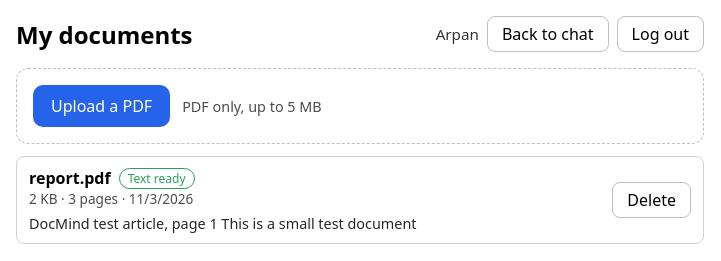
Scenario: DocumentsPage › deletes a document after confirmation
Click the button with aria-label "Delete report.pdf" at [652, 200], box [612,182,691,218]
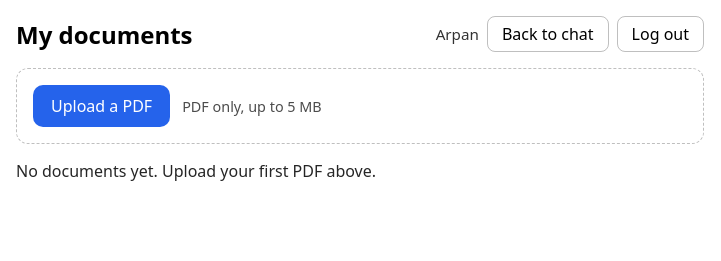
expect the text "report.pdf" is gone: met
